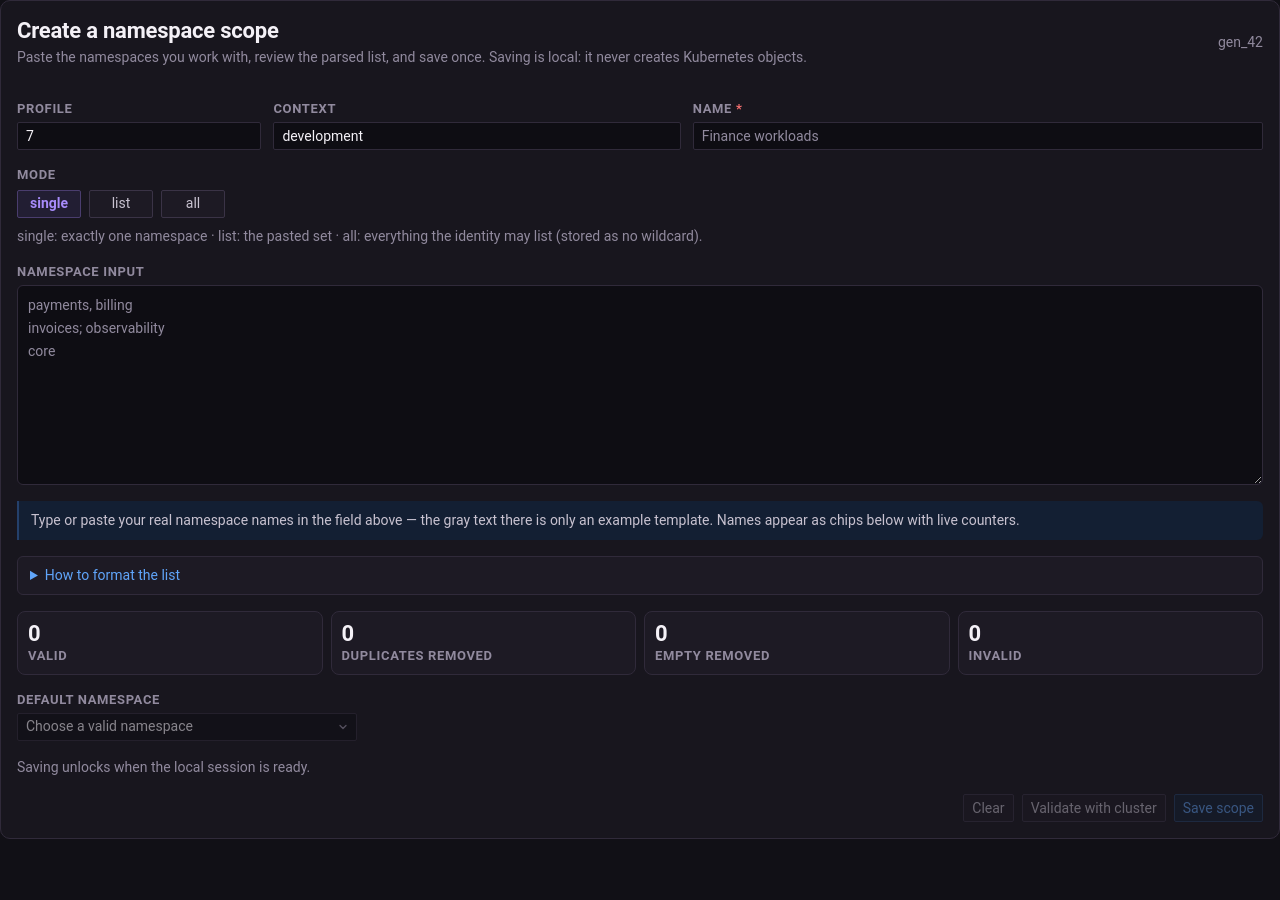
Scenario: namespace scope editor › removes individual chips and clears the entire input
Type "payments billing invoices" into the text box labelled "Namespace input". click: (640, 385)
box: [17,285,1263,485]
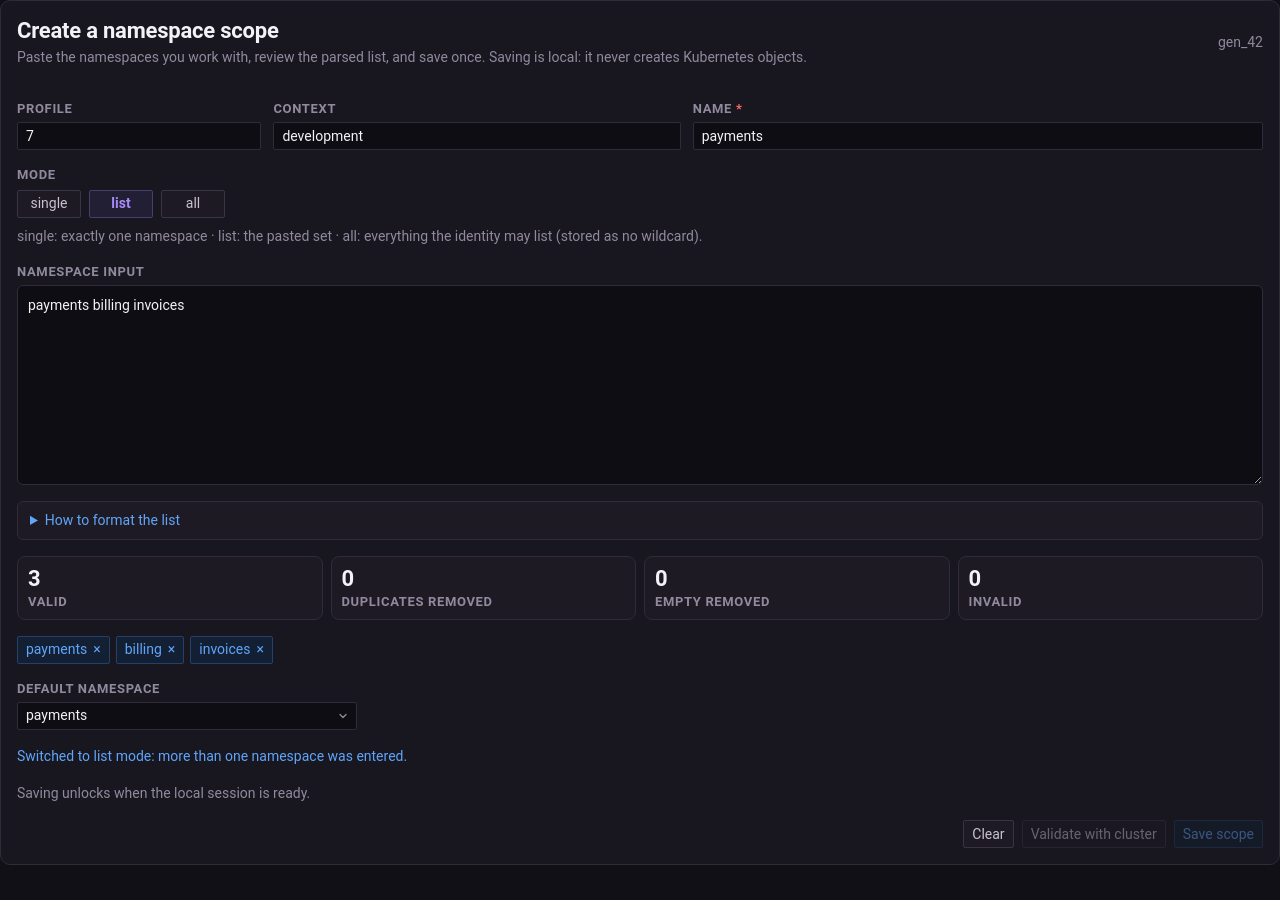
Click the button with aria-label "Remove namespace billing". click: (150, 650)
box: [116,636,184,664]
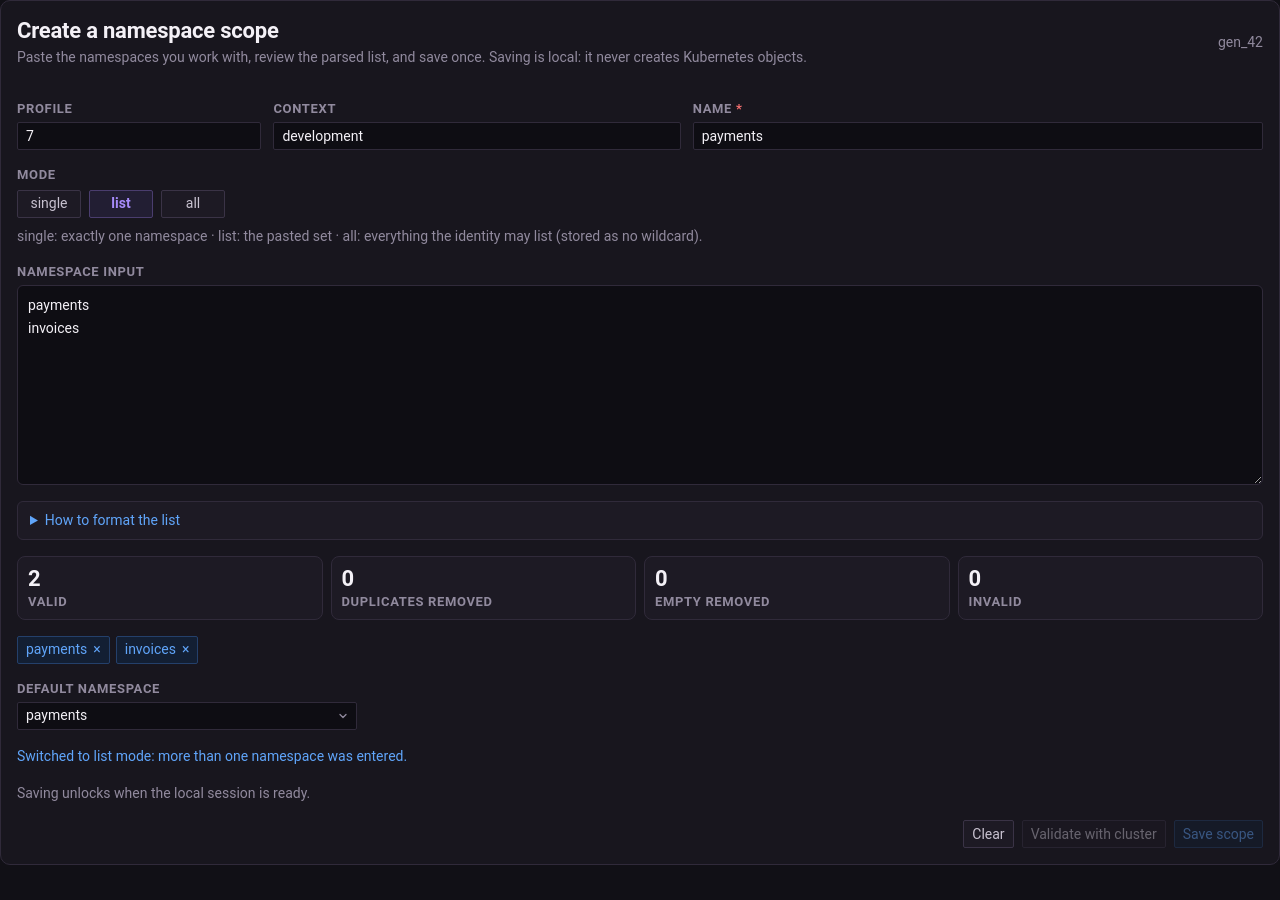
expect the button "billing" is gone: met
Click the button "Clear". click: (988, 834)
box: [963,820,1014,848]
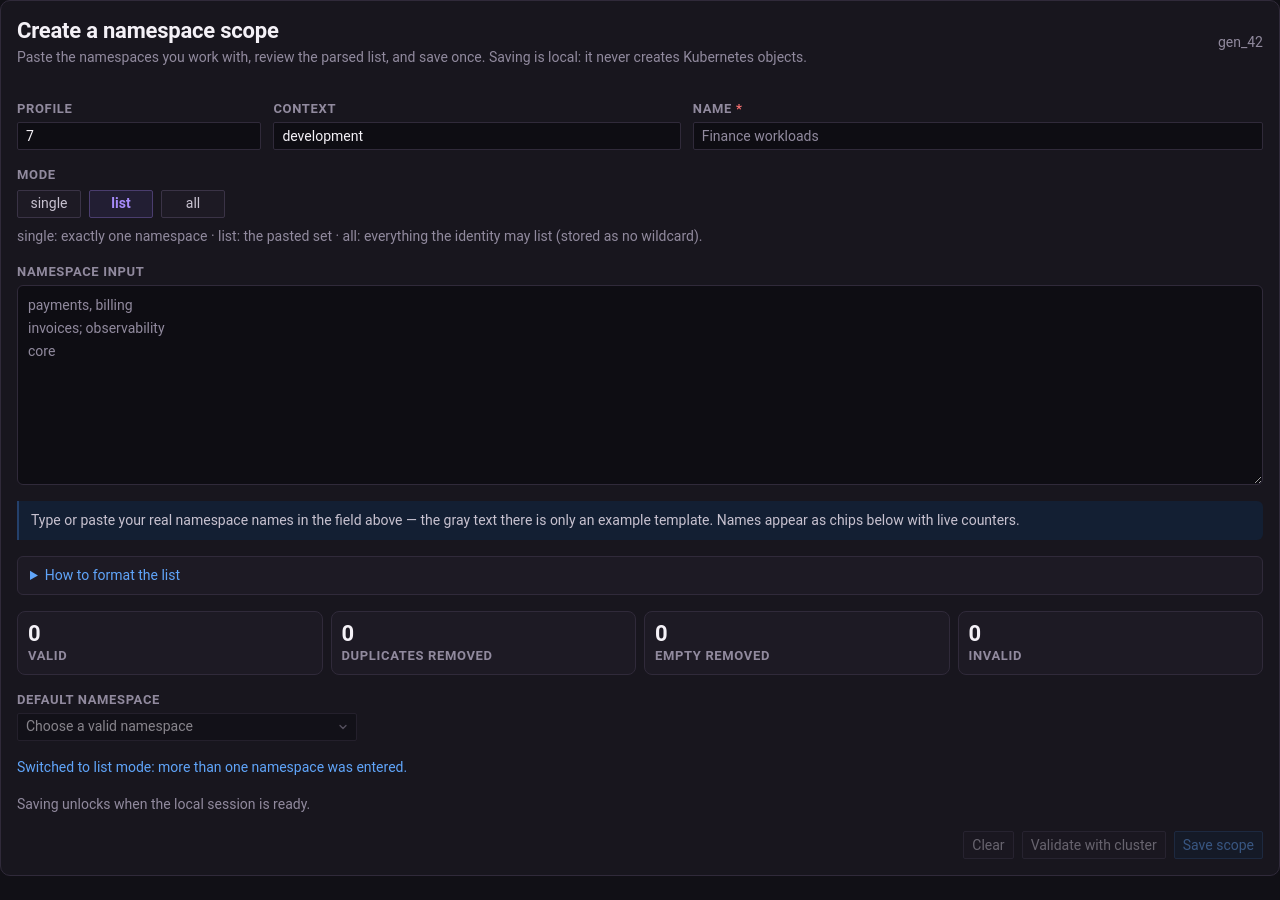
expect the text box labelled "Namespace input" is empty: met, box [17,285,1263,485]
